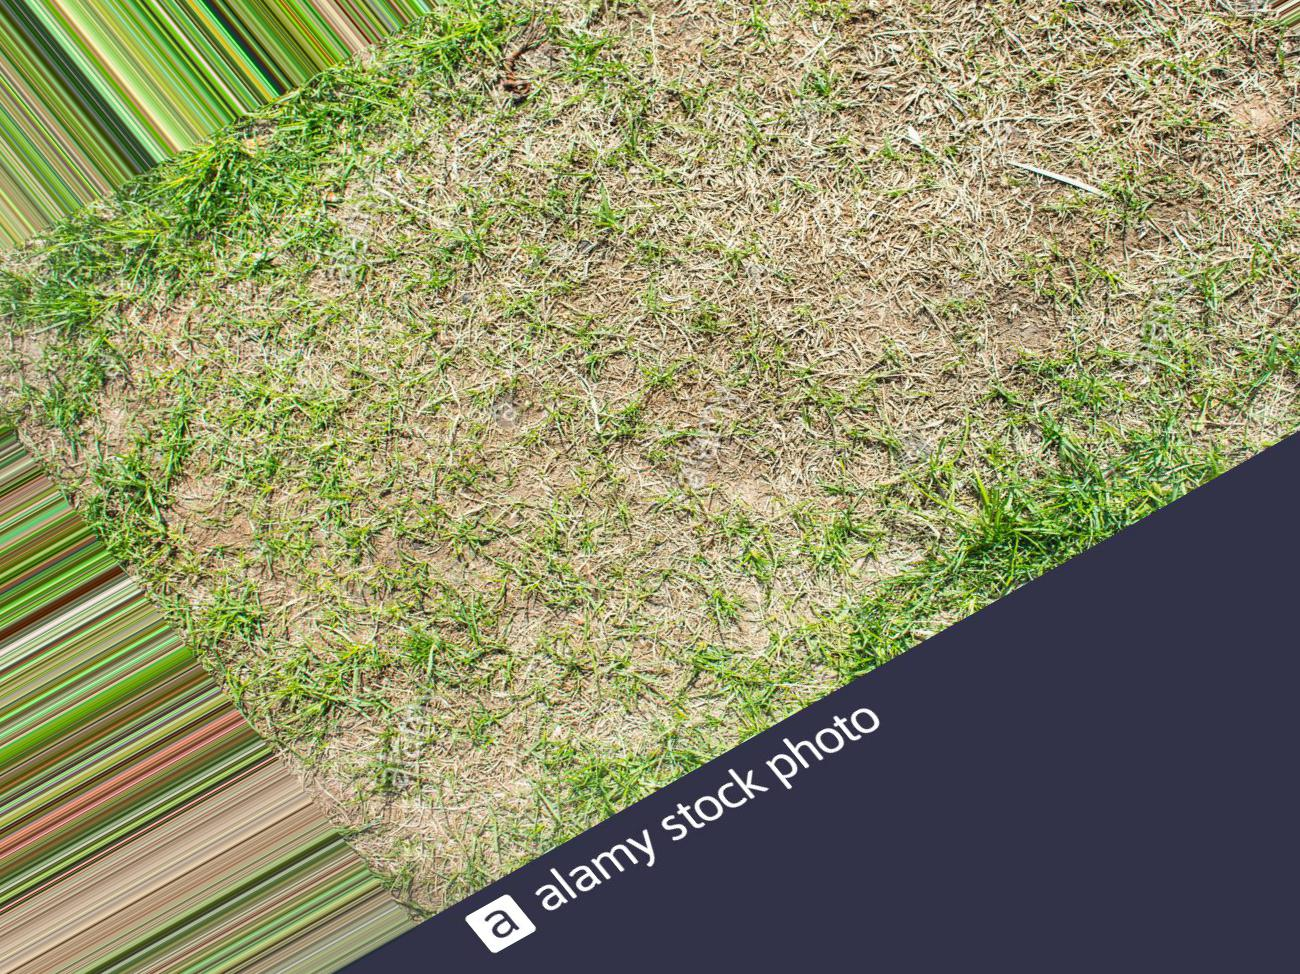patch: (535, 320, 835, 639), (910, 48, 1154, 269), (273, 450, 484, 670), (536, 80, 828, 229), (414, 675, 612, 828), (1115, 306, 1300, 454), (292, 226, 452, 359), (904, 313, 1064, 434)
